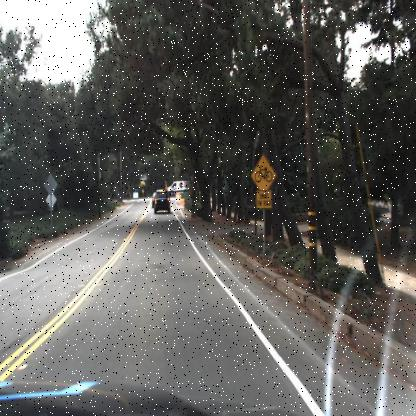car: (150, 187, 172, 217), (149, 190, 157, 210), (150, 190, 158, 207)
truck: (166, 177, 188, 196)
